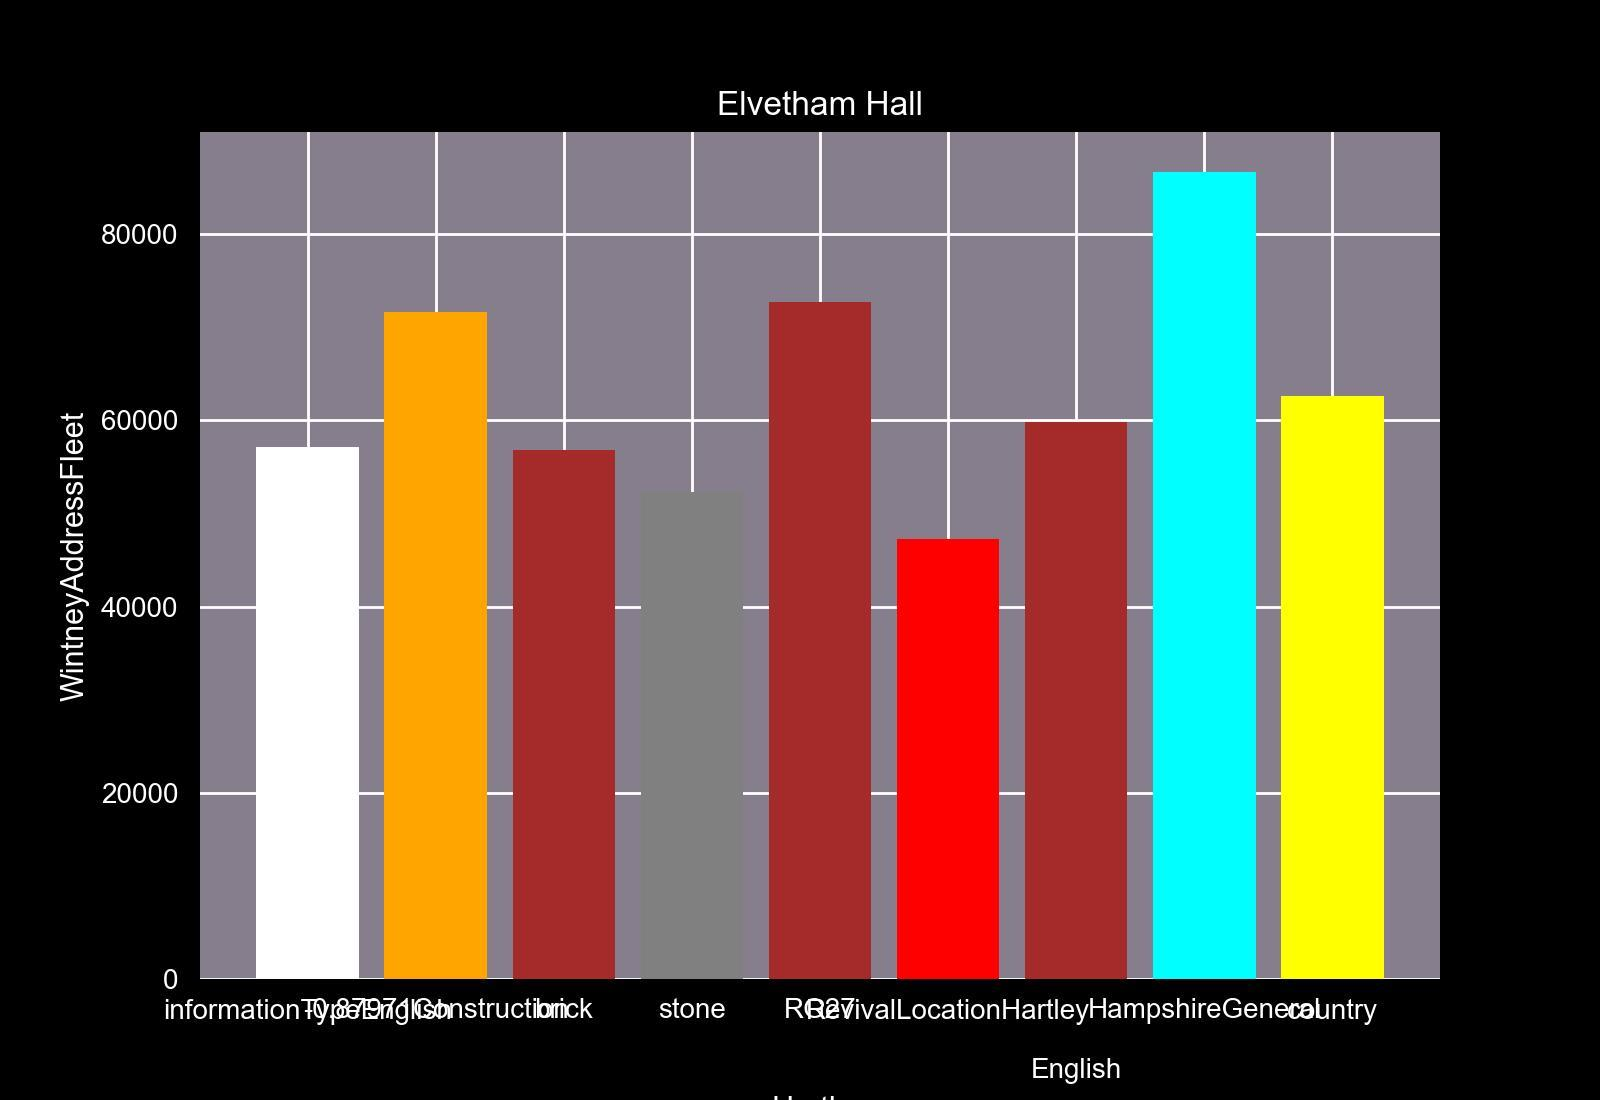axis: (61, 224, 179, 995)
rectangle: (1154, 173, 1256, 978), (770, 301, 871, 978), (384, 312, 486, 978), (1281, 396, 1384, 978), (1025, 422, 1127, 978), (257, 447, 359, 978), (513, 450, 615, 978), (641, 492, 743, 978), (897, 538, 999, 978)
